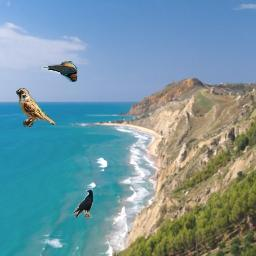Crow: (74, 188, 93, 218)
Sparrow: (16, 88, 56, 127)
Swallow: (42, 61, 78, 82)
